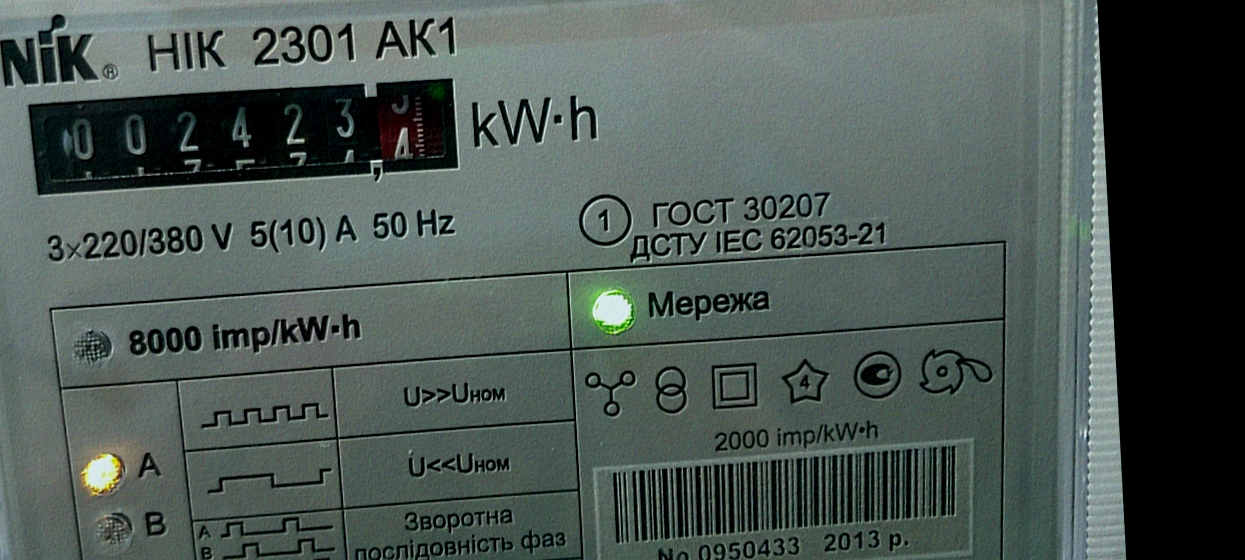0: (69, 114, 98, 164), (123, 112, 150, 158)
2: (174, 108, 202, 155), (282, 101, 307, 148)
3: (333, 95, 358, 141), (390, 92, 412, 116)
4: (229, 105, 254, 151), (390, 123, 417, 162)
screen: (17, 67, 473, 208)
